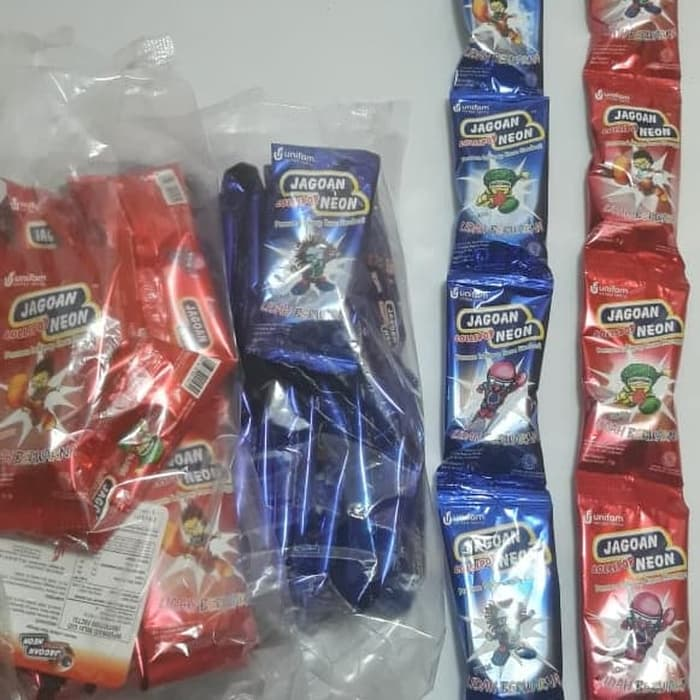jagoan_neon: (2, 253, 126, 529), (243, 143, 382, 363), (130, 413, 258, 645), (576, 267, 691, 500), (438, 488, 564, 699), (575, 490, 692, 700), (436, 281, 553, 489), (448, 99, 555, 280), (583, 82, 683, 273), (453, 1, 545, 98), (584, 1, 682, 90)
